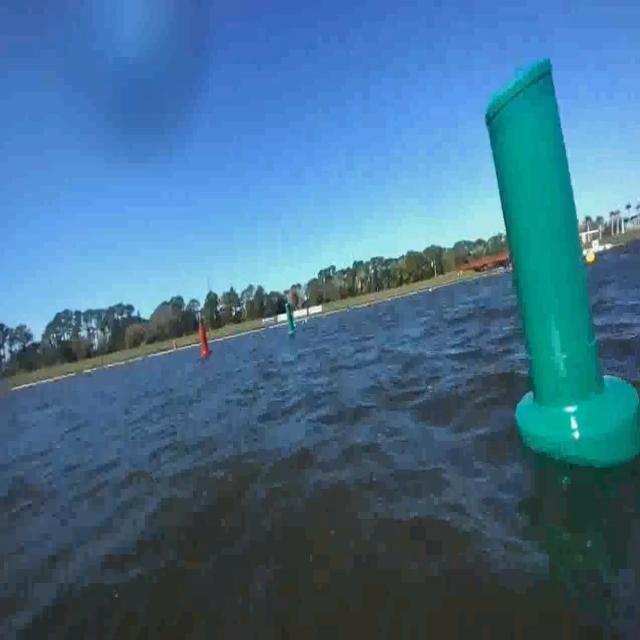green-column-buoy: (454, 71, 638, 476), (280, 302, 305, 338)
red-column-buoy: (192, 312, 212, 362)
